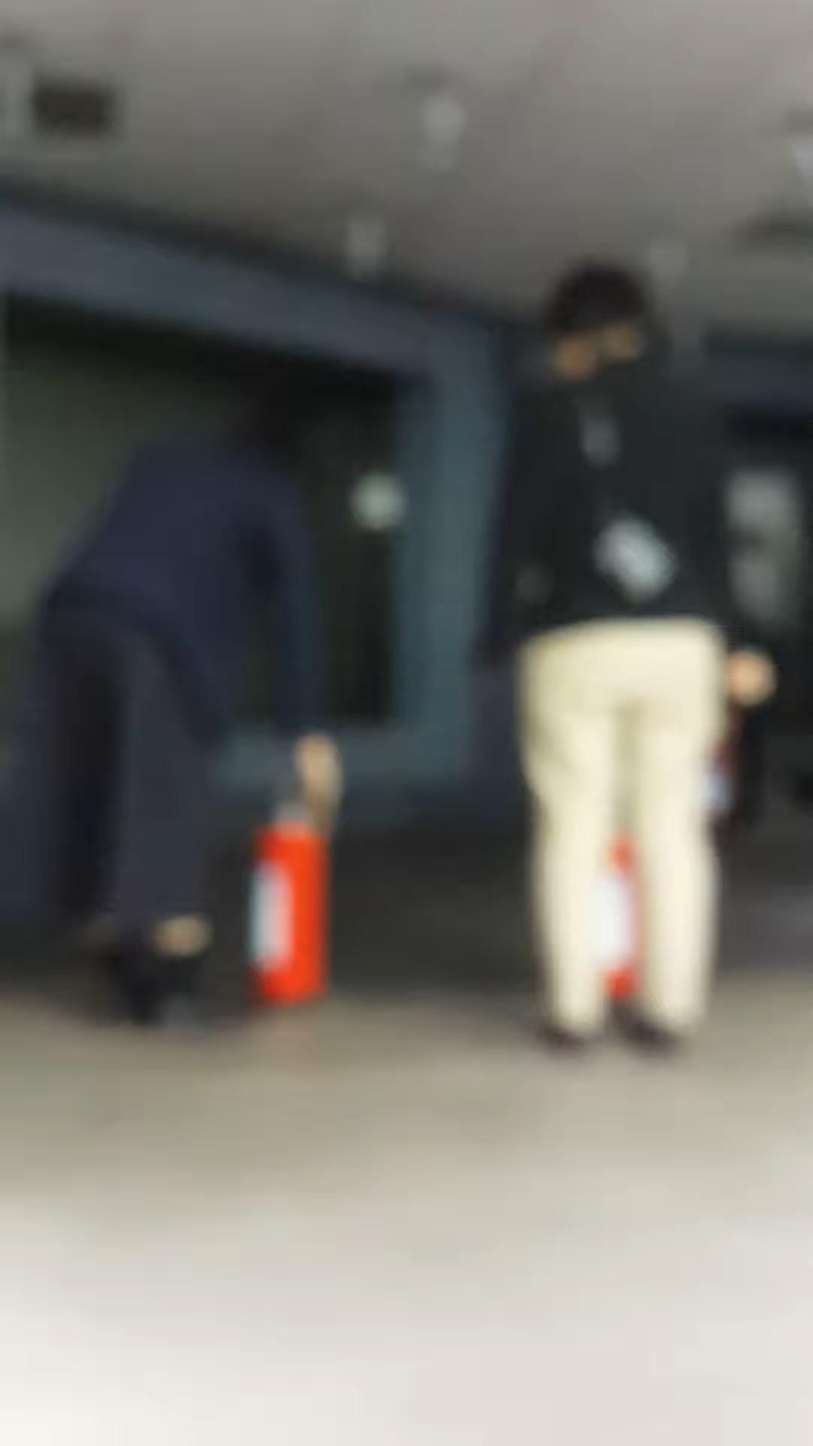FireExtinguisher: (242, 795, 344, 1010), (595, 818, 663, 1025)
